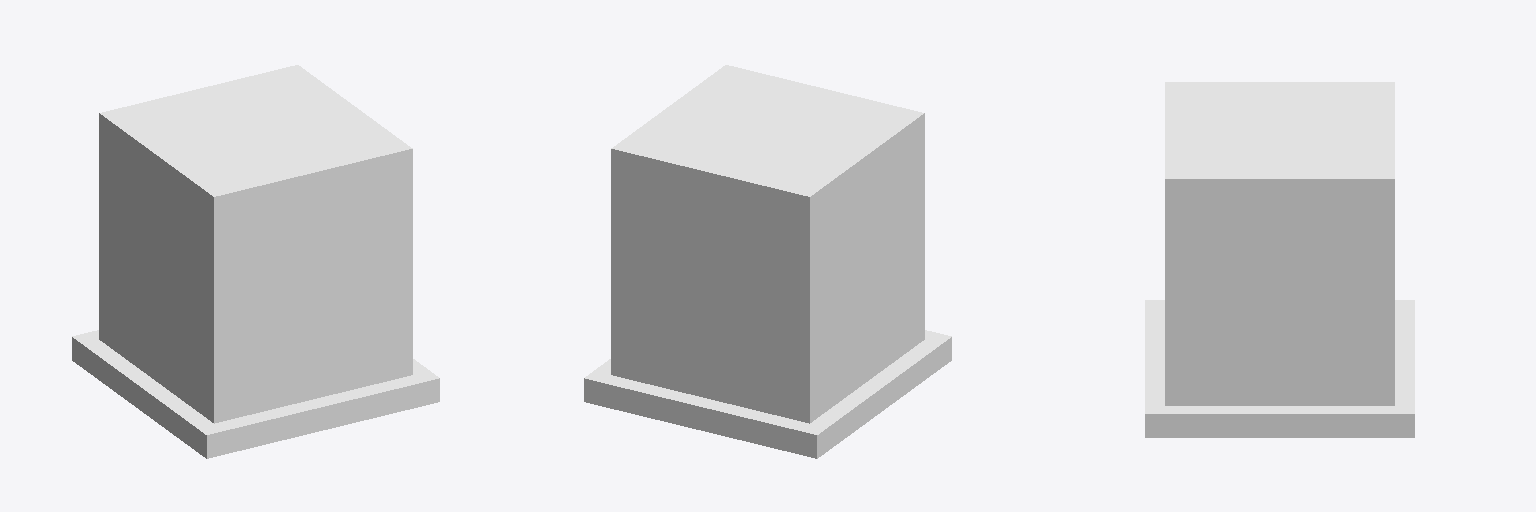
The model's file is Pedestal01.obj.
3 renders of one model, left to right at view 1: azimuth 30°, elevation 25°; view 2: azimuth 150°, elevation 25°; view 3: azimuth 270°, elevation 25°, orthographic.
Parts seen in each view (by area): view 1: pCube4; view 2: pCube4; view 3: pCube4.
Boxes of the visible parts, x1=… form: pCube4: x1=72, y1=65, x2=439, y2=458; pCube4: x1=584, y1=65, x2=951, y2=458; pCube4: x1=1145, y1=82, x2=1414, y2=437.
Size of the model in its own units: 3.4 by 3.48 by 3.4.